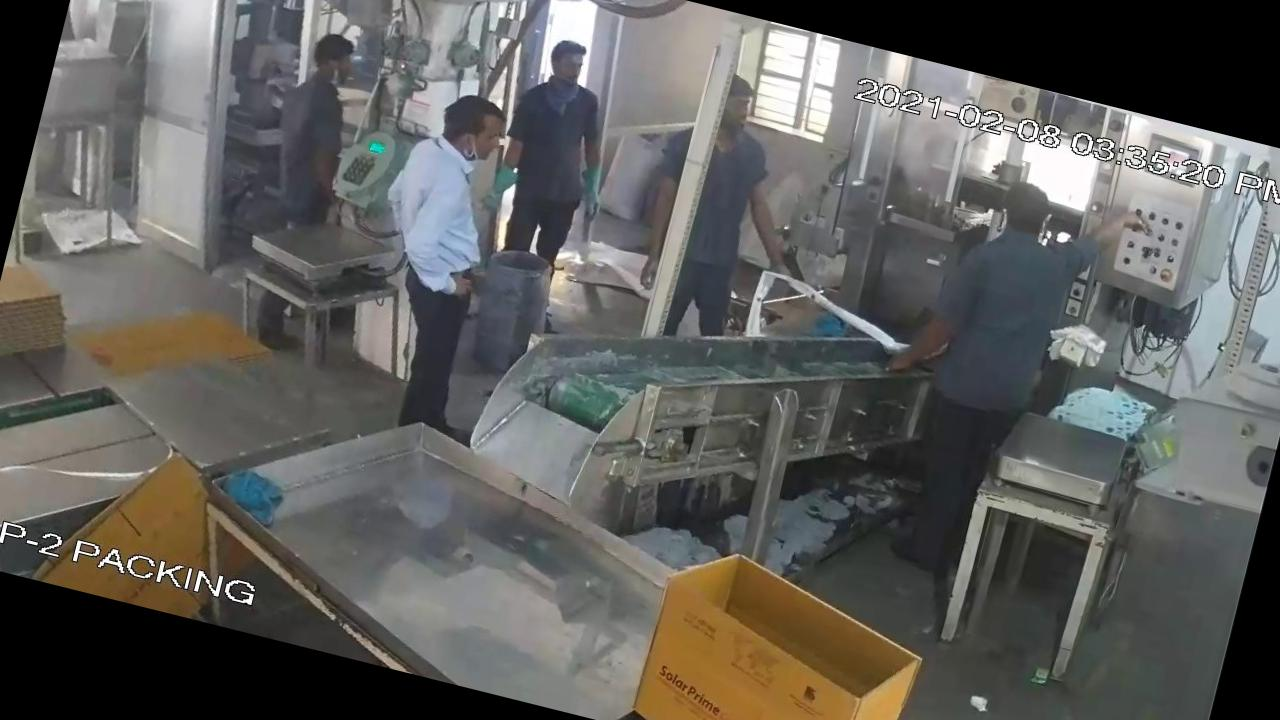Gloves: (552, 133, 630, 260), (471, 142, 536, 230)
No-gloves: (701, 164, 824, 303), (862, 274, 966, 395), (620, 164, 689, 307), (1073, 183, 1169, 279), (400, 226, 490, 315), (282, 132, 356, 220)
